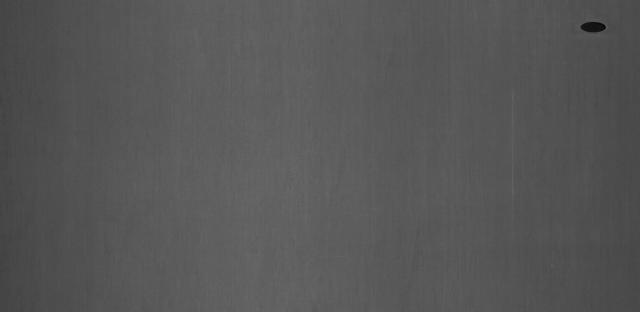punching_hole: (578, 17, 610, 37)
